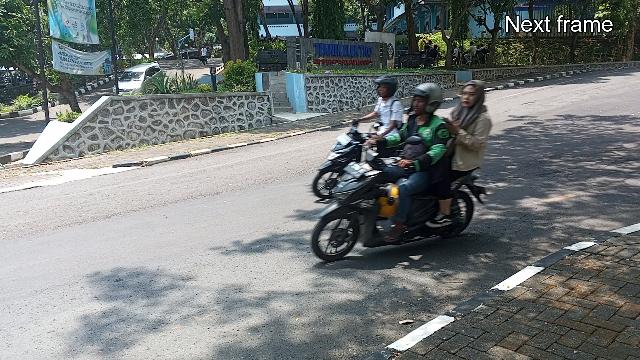helm: (411, 83, 443, 115), (376, 75, 398, 97)
motor: (313, 151, 488, 265), (315, 125, 364, 200)
non-helm: (462, 81, 487, 107)
